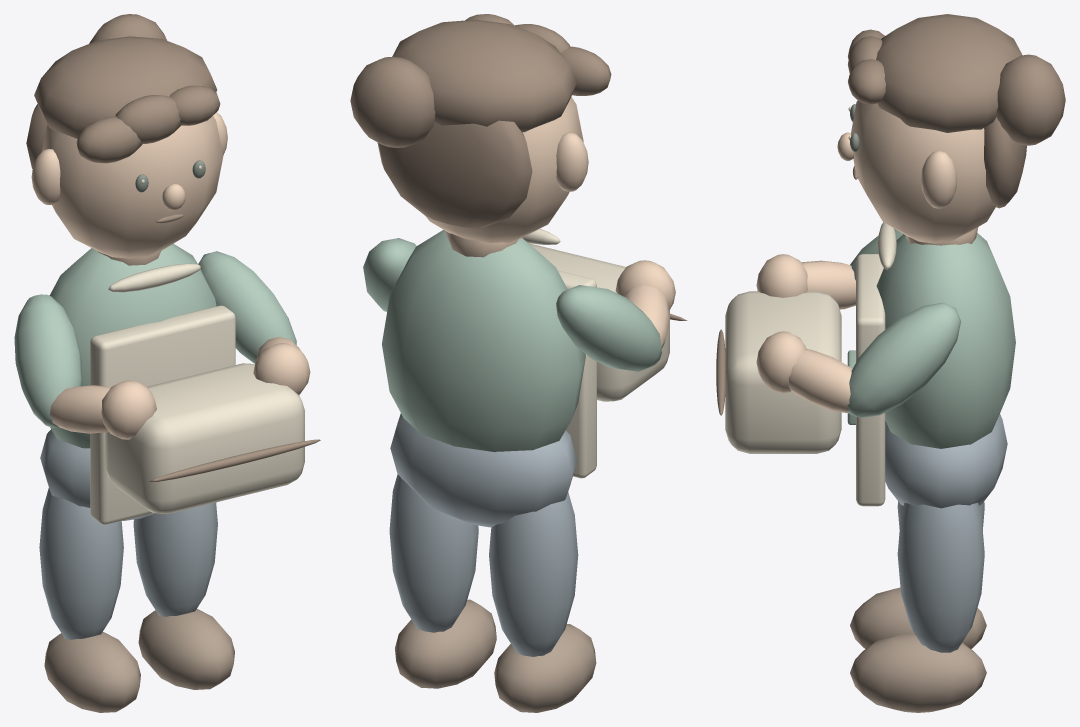
File: mommy-carry.glb
3 renders of one model, left to right at view 1: azimuth 30°, elevation 25°; view 2: azimuth 150°, elevation 25°; view 3: azimuth 270°, elevation 25°, orthographic. The views are drawn at different scales.
Visible parts, largest first — view 1: Supply parcel.002, Head.007, Apron.001, Hair crown.007, Padded shirt.007, Trouser leg.014, Trouser leg.015, Shirt sleeve.014, Rounded boot.015, Rounded boot.014, Shirt sleeve.015, Soft trouser seat.007 (+12 smaller); view 2: Padded shirt.007, Hair crown.007, Hair back.007, Soft trouser seat.007, Trouser leg.014, Trouser leg.015, Shirt sleeve.014, Hair bun.001, Rounded boot.015, Rounded boot.014, Head.007, Supply parcel.002 (+8 smaller); view 3: Padded shirt.007, Supply parcel.002, Hair crown.007, Head.007, Trouser leg.015, Shirt sleeve.015, Rounded boot.015, Soft trouser seat.007, Apron.001, Hair bun.001, Rounded boot.014, Forearm.015 (+9 smaller).
Boxes of the visible parts, <box> form: Supply parcel.002: <box>105,363,304,514</box>; Head.007: <box>42,115,223,258</box>; Apron.001: <box>90,305,235,524</box>; Hair crown.007: <box>34,36,217,138</box>; Padded shirt.007: <box>49,243,216,448</box>; Trouser leg.014: <box>39,488,123,639</box>; Trouser leg.015: <box>133,502,217,616</box>; Shirt sleeve.014: <box>14,294,82,427</box>; Rounded boot.015: <box>138,609,234,689</box>; Rounded boot.014: <box>44,632,140,712</box>; Shirt sleeve.015: <box>198,251,296,363</box>; Soft trouser seat.007: <box>40,429,154,520</box>; Padded shirt.007: <box>382,230,585,452</box>; Hair crown.007: <box>392,19,577,132</box>; Hair back.007: <box>377,120,532,228</box>; Soft trouser seat.007: <box>390,413,577,527</box>; Trouser leg.014: <box>489,492,578,656</box>; Trouser leg.015: <box>389,474,478,632</box>; Shirt sleeve.014: <box>556,285,661,371</box>; Hair bun.001: <box>350,56,435,147</box>; Rounded boot.015: <box>395,599,496,688</box>; Rounded boot.014: <box>494,624,596,712</box>; Head.007: <box>425,97,583,242</box>; Supply parcel.002: <box>529,243,669,401</box>; Padded shirt.007: <box>876,233,1015,448</box>; Supply parcel.002: <box>725,291,841,453</box>; Hair crown.007: <box>876,14,1022,132</box>; Head.007: <box>850,100,996,243</box>; Trouser leg.015: <box>897,502,984,652</box>; Shirt sleeve.015: <box>847,302,960,418</box>; Rounded boot.015: <box>850,633,986,712</box>; Soft trouser seat.007: <box>885,414,1007,508</box>; Apron.001: <box>856,254,885,506</box>; Hair bun.001: <box>996,54,1065,145</box>; Rounded boot.014: <box>850,587,986,648</box>; Forearm.015: <box>788,349,852,412</box>.
Bounding box in the file's own units: 0.7508 × 1.74 × 0.842.
